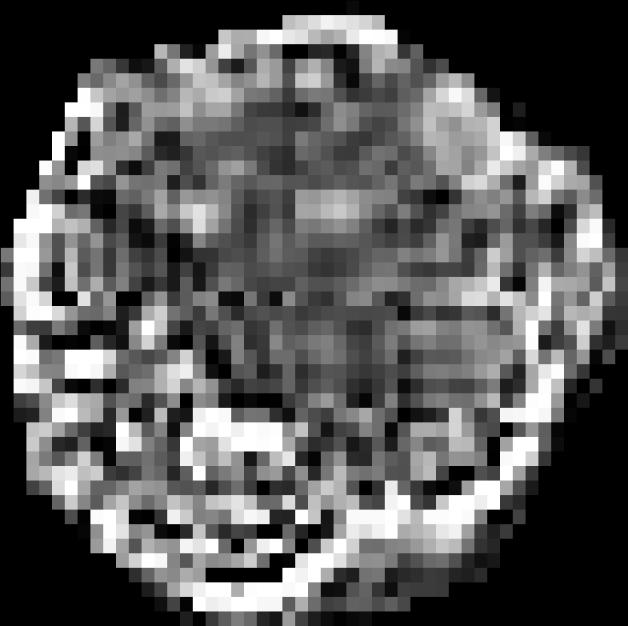tumor_good_chance: (1, 1, 628, 626)
